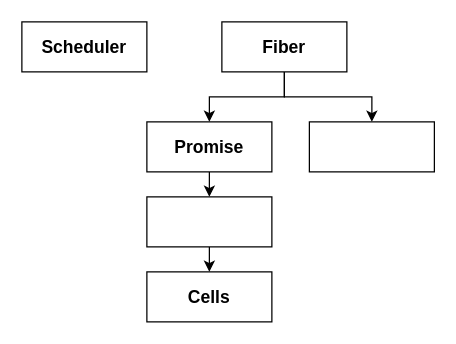
The diagram is 456 pixels wide and 344 high, and some of its shapes have lost their labels. The shapes that lost their labels are listed below. From the top down, each one's centre as x and y in pixels, then its label:
[371,146]: Domain Manager
[209,221]: Broadcast
